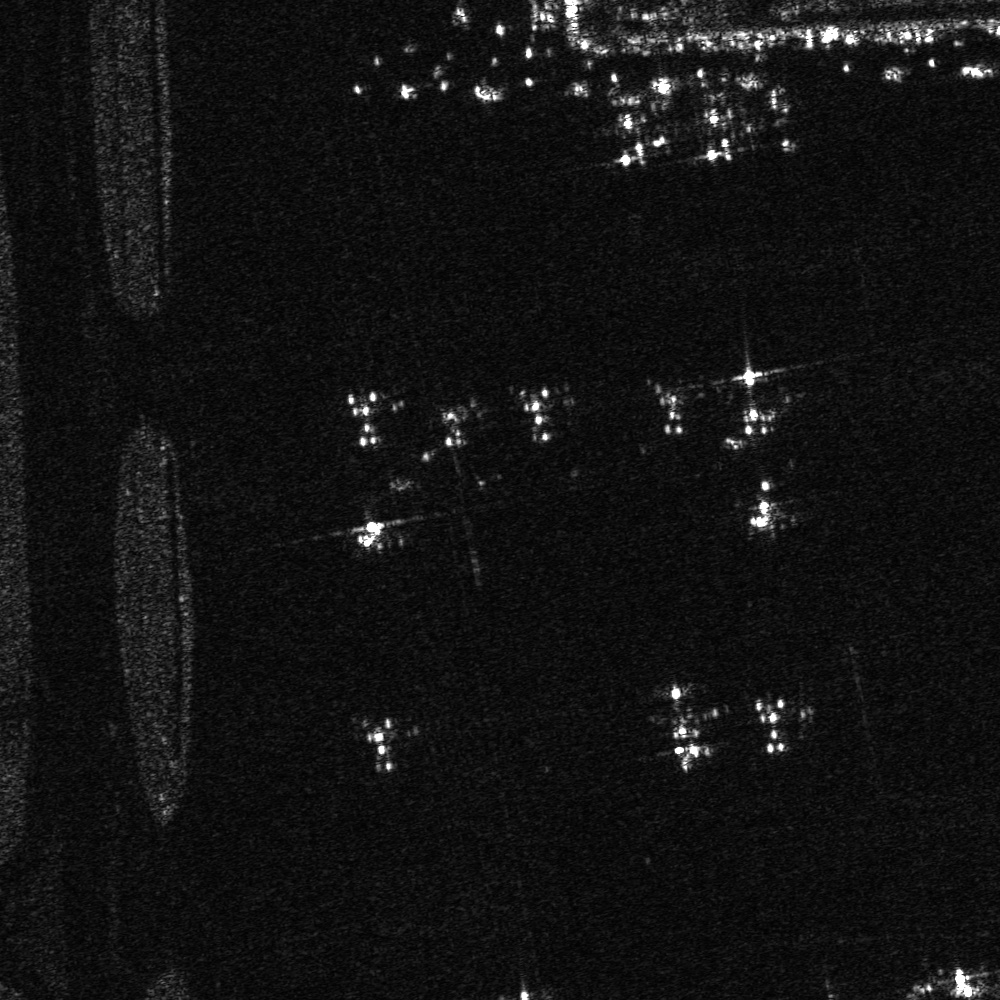A220: (743, 687, 813, 758)
ARJ21: (751, 77, 823, 154), (347, 709, 425, 780), (737, 476, 792, 540), (340, 508, 400, 560)
Boeing737: (588, 87, 677, 168)
Boeing787: (913, 952, 999, 999)
other: (636, 682, 734, 776), (724, 357, 796, 449), (685, 88, 756, 167), (510, 374, 576, 451), (336, 382, 403, 456), (426, 390, 488, 458), (649, 372, 709, 435)
